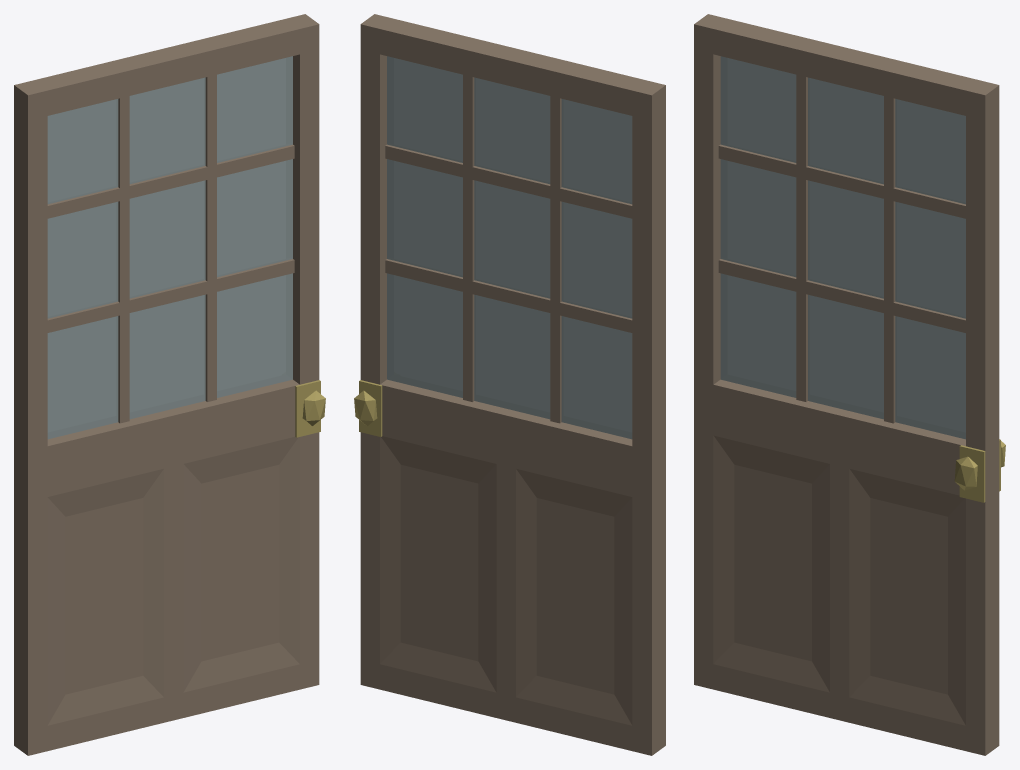
The model's file is victorian_door_1.fbx.
3 renders of one model, left to right at view 1: azimuth 30°, elevation 25°; view 2: azimuth 150°, elevation 25°; view 3: azimuth 330°, elevation 25°, orthographic.
Visible parts, largest first — view 1: door.002; view 2: door.002; view 3: door.002.
Part boxes in pixels (bbox=[...]): door.002: bbox=[14, 14, 325, 755]; door.002: bbox=[354, 14, 665, 755]; door.002: bbox=[694, 14, 1005, 755].
Size of the model in its own units: 120 by 260 by 24.33.
